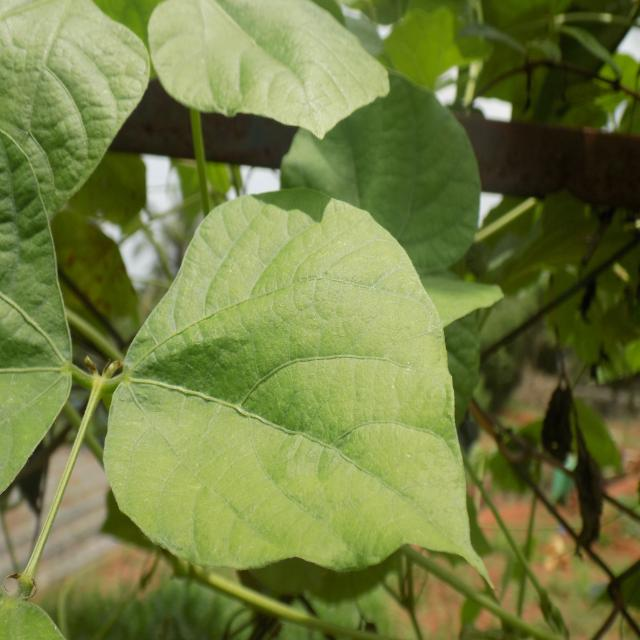Dolicos bean_healthy: (102, 184, 493, 579)
